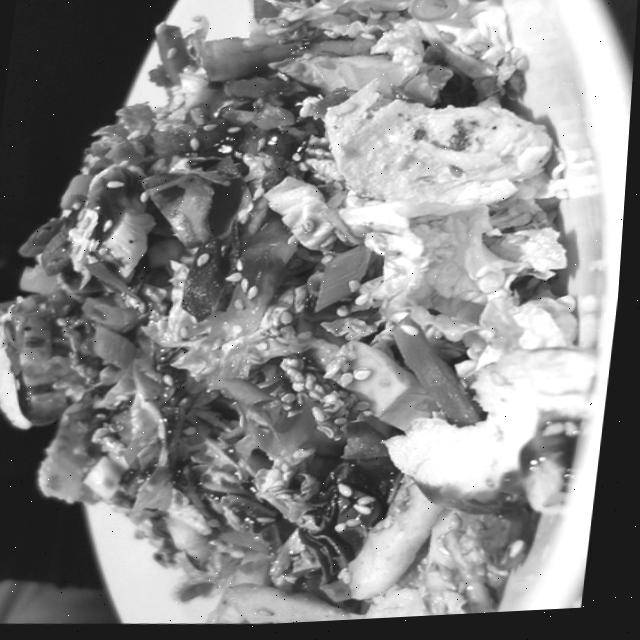鸡肉料理 含炸鸡: (0, 0, 637, 634)
